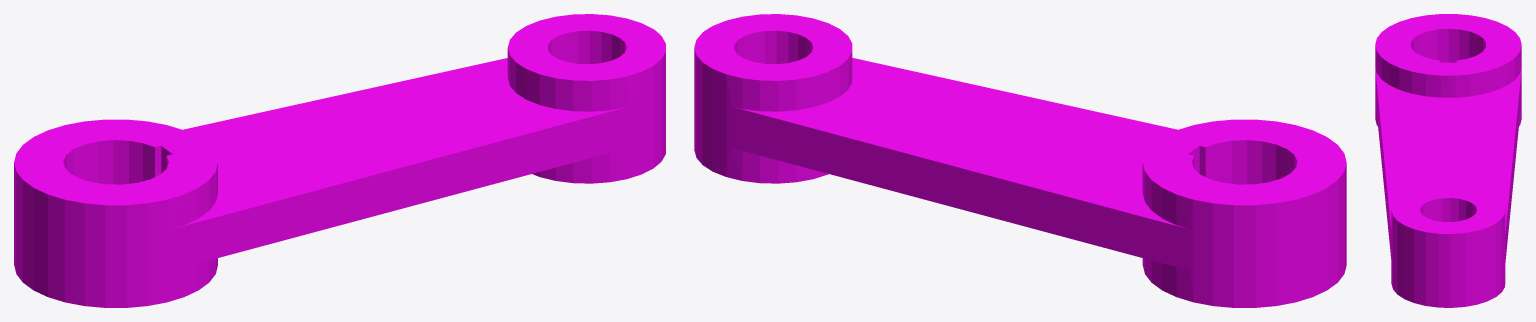
Rendered from Handle_arm.glb.
3 renders of one model, left to right at view 1: azimuth 30°, elevation 25°; view 2: azimuth 150°, elevation 25°; view 3: azimuth 270°, elevation 25°, orthographic. The views are drawn at different scales.
Visible parts, largest first — view 1: Node1; view 2: Node1; view 3: Node1.
Part boxes in pixels (x1,y1,x2,y2): Node1: (14,14,665,307); Node1: (694,14,1346,307); Node1: (1375,14,1521,307).
Bounding box in the file's own units: 102 × 15.88 × 28.58.
